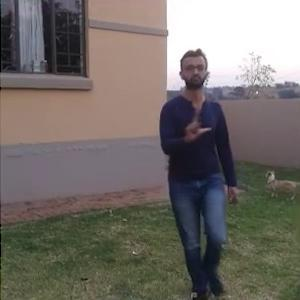land_hand: (182, 103, 214, 142)
